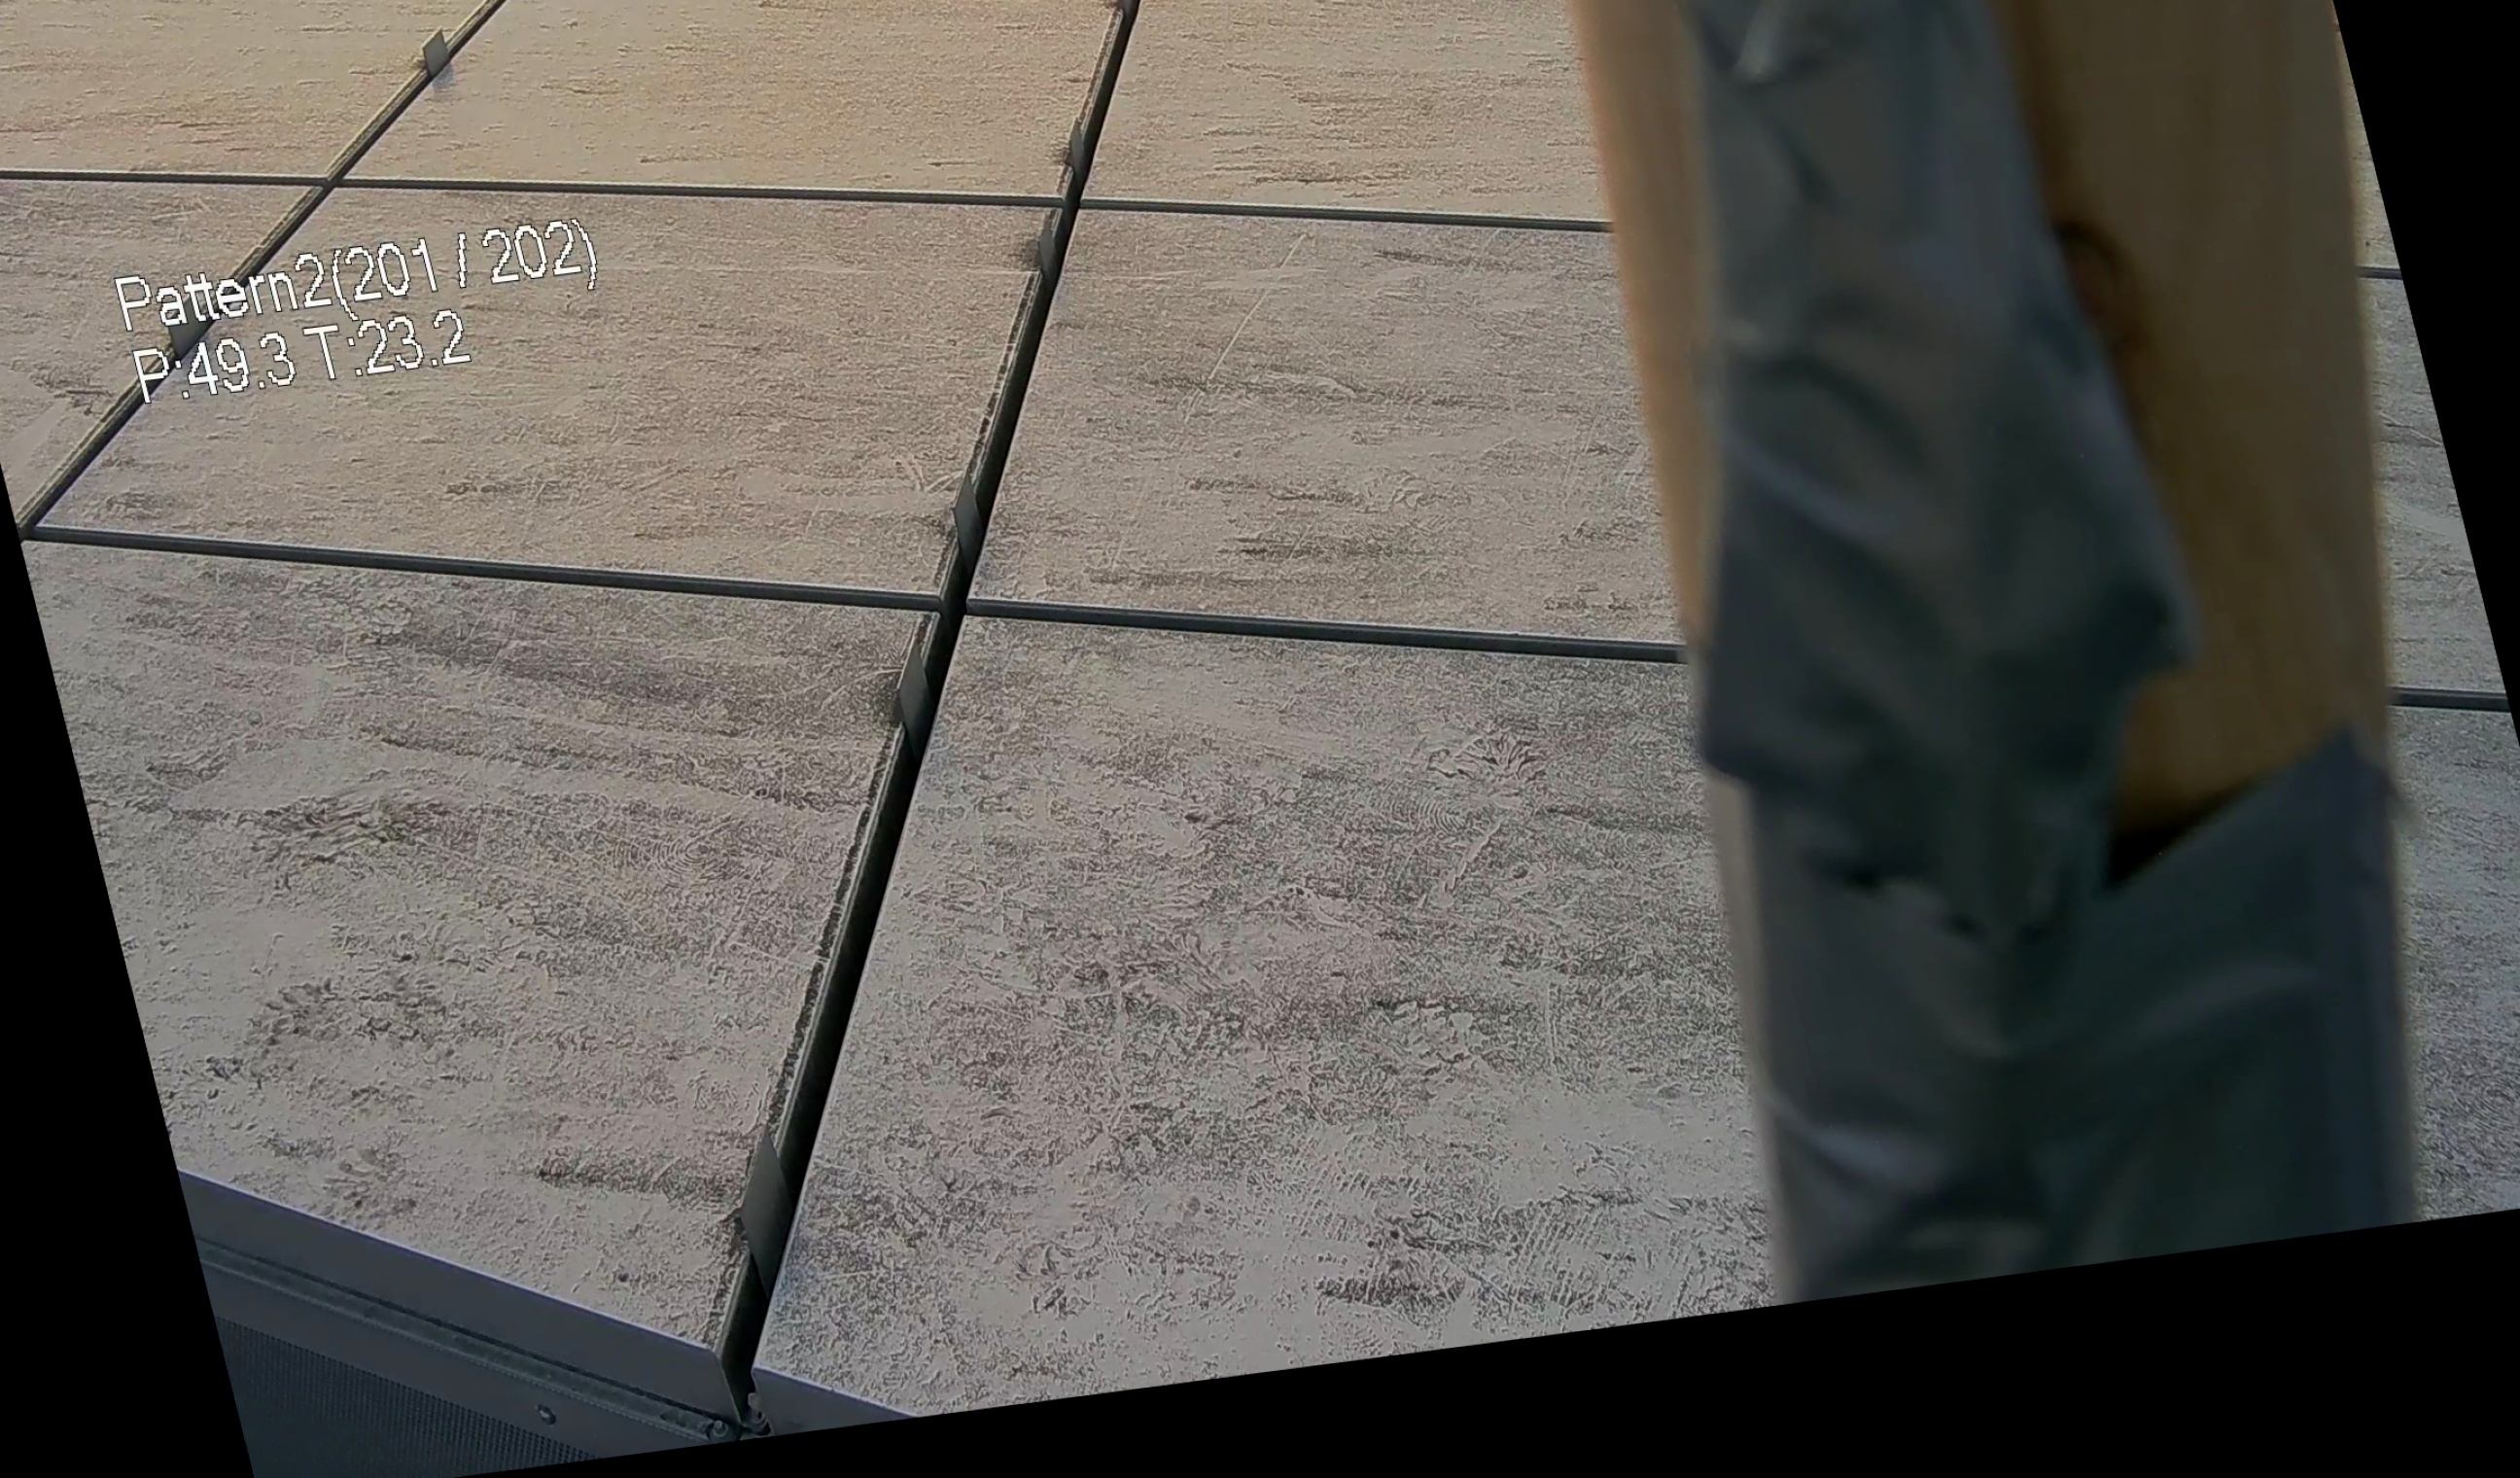Other: (1370, 0, 2520, 1302)
